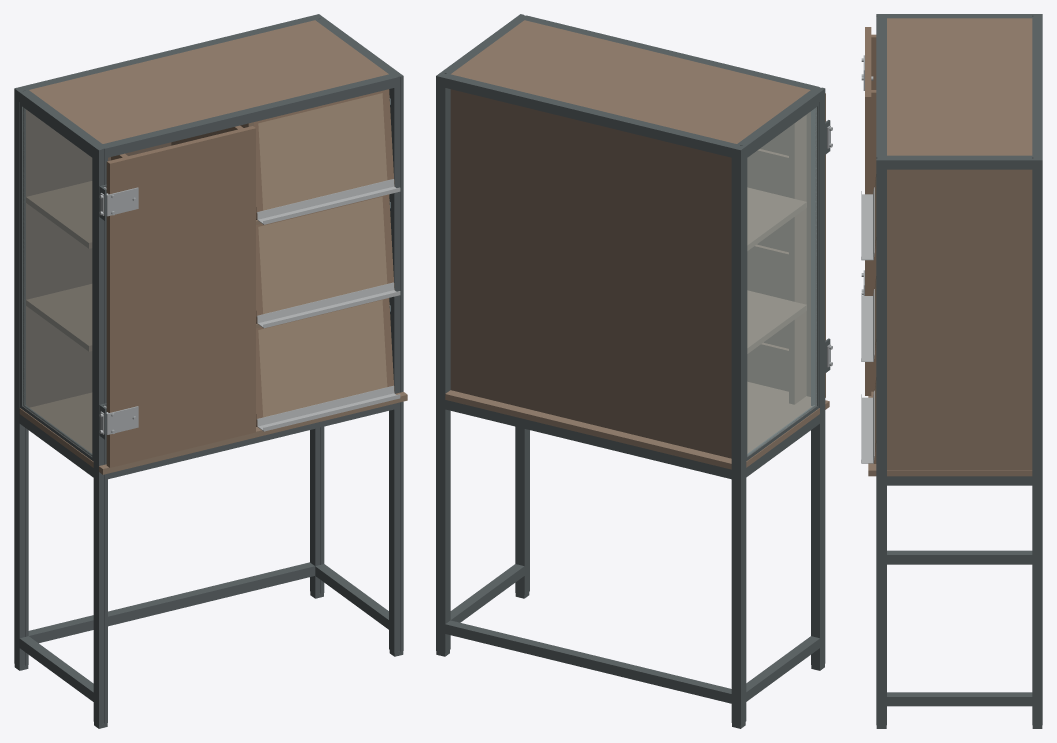
The model's file is cabinet-closed.glb.
3 views of the same model, side by side, from view 1: azimuth 30°, elevation 25°; view 2: azimuth 150°, elevation 25°; view 3: azimuth 270°, elevation 25° (orthographic).
Visible parts, largest first — view 1: Door-face-18, Left-glass-6, Top-18, Back-12, Plywood-infill-6-2, Plywood-infill-6-1, Plywood-infill-6-3, Post-4-23, Post-966-23, Post-4-470, Beam-top-front, Bottom-18 (+22 smaller); view 2: Back-12, Left-glass-6, Top-18, Post-4-470, Post-966-470, Post-4-23, Door-face-18, Bottom-18, Door-inner-hinge-18, Beam-top-rear, Beam-lower-rear, Beam-body-rear (+11 smaller); view 3: Right-panel, Top-18, Post-966-23, Post-966-470, Beam-lower-side-4, Beam-lower-side-966, Beam-top-side-966, Door-face-18, Beam-top-rear, Beam-top-front, Beam-body-side-966, Bottom-18 (+6 smaller).
Boxes of the visible parts, box(x1,y1,x2,y2) form: Door-face-18: box(106, 126, 255, 467); Left-glass-6: box(22, 107, 92, 455); Top-18: box(29, 20, 388, 143); Back-12: box(25, 109, 171, 407); Plywood-infill-6-2: box(258, 196, 387, 313); Plywood-infill-6-1: box(258, 300, 387, 417); Plywood-infill-6-3: box(258, 93, 387, 210); Post-4-23: box(93, 144, 107, 725); Post-966-23: box(389, 72, 403, 652); Post-4-470: box(14, 86, 28, 667); Beam-top-front: box(103, 74, 394, 157); Bottom-18: box(19, 392, 407, 474); Back-12: box(450, 89, 731, 458); Left-glass-6: box(747, 107, 816, 456); Top-18: box(451, 20, 810, 143); Post-4-470: box(731, 144, 746, 725); Post-966-470: box(436, 72, 450, 652); Post-4-23: box(811, 86, 825, 666); Door-face-18: box(747, 93, 825, 397); Bottom-18: box(445, 382, 829, 469); Door-inner-hinge-18: box(789, 115, 806, 404); Beam-top-rear: box(445, 74, 736, 157); Beam-lower-rear: box(445, 620, 731, 703); Beam-body-rear: box(445, 400, 731, 479); Right-panel: box(887, 169, 1032, 470); Top-18: box(887, 18, 1032, 155); Post-966-23: box(876, 155, 886, 725); Post-966-470: box(1032, 155, 1042, 725); Beam-lower-side-4: box(887, 550, 1032, 564); Beam-lower-side-966: box(887, 692, 1032, 706); Beam-top-side-966: box(887, 155, 1032, 169); Door-face-18: box(865, 27, 871, 395); Beam-top-rear: box(1032, 18, 1042, 155); Beam-top-front: box(876, 18, 886, 155); Beam-body-side-966: box(887, 476, 1032, 485); Bottom-18: box(868, 391, 1032, 476).
Size of the model in its own units: 1 by 1.8 by 0.5205.
